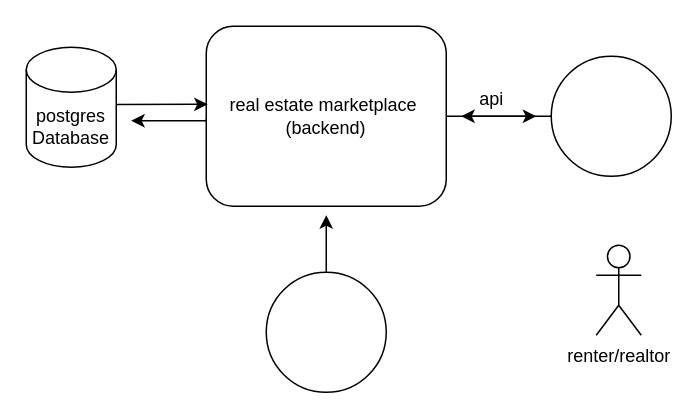
This 698x419 diagram has some shape labels left out. The shapes that lost their labels are listed below. From the top down, each one's box as (x1, y1, x2, y2) in pixels, then its label:
(550, 55, 671, 176): USSD gateway
(265, 271, 386, 392): Admin dashboard
